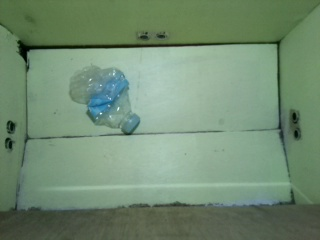damaged-bottle: (68, 63, 141, 135)
